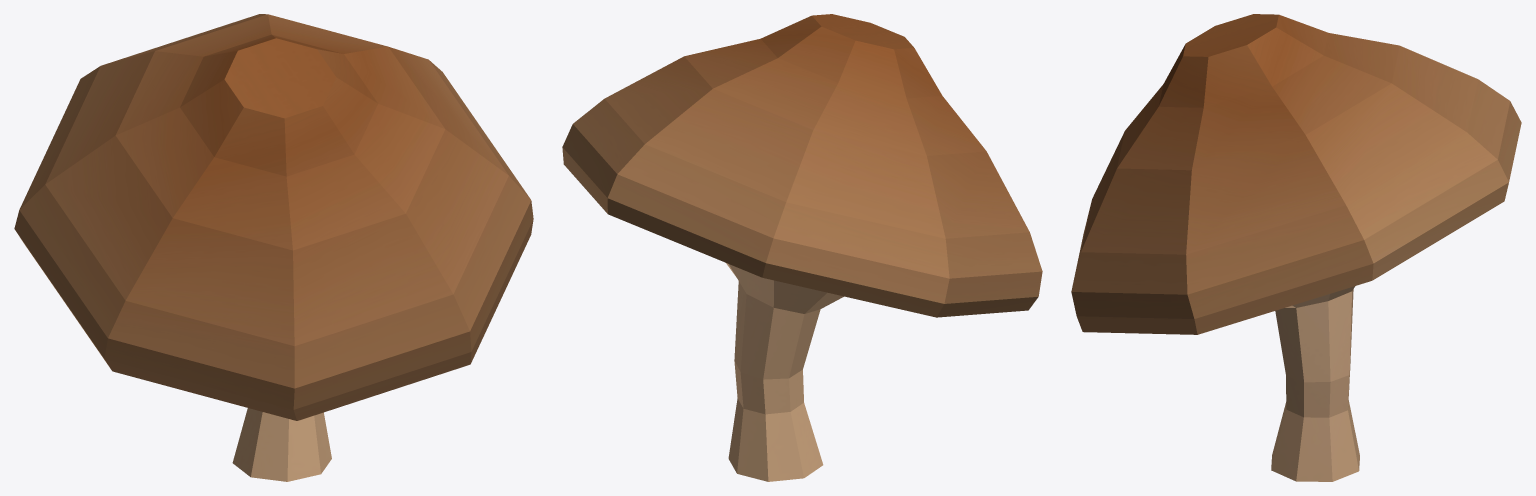
Rendered from brownShroom3.fbx.
3 views of the same model, side by side, from view 1: azimuth 30°, elevation 25°; view 2: azimuth 150°, elevation 25°; view 3: azimuth 270°, elevation 25° (orthographic). The views are drawn at different scales.
Parts seen in each view (by area): view 1: shroom3; view 2: shroom3; view 3: shroom3.
Boxes of the visible parts, box(x1,y1,x2,y2) form: shroom3: box(14, 14, 533, 481); shroom3: box(562, 14, 1042, 481); shroom3: box(1071, 14, 1521, 481).
Size of the model in its own units: 783 by 796 by 768.
